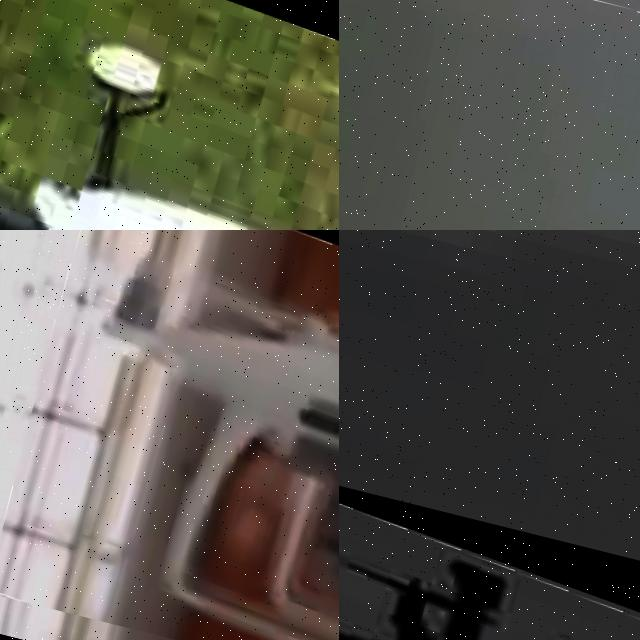0: (0, 0, 339, 230), (339, 447, 640, 640)
drone: (0, 230, 339, 640), (339, 0, 640, 53)
